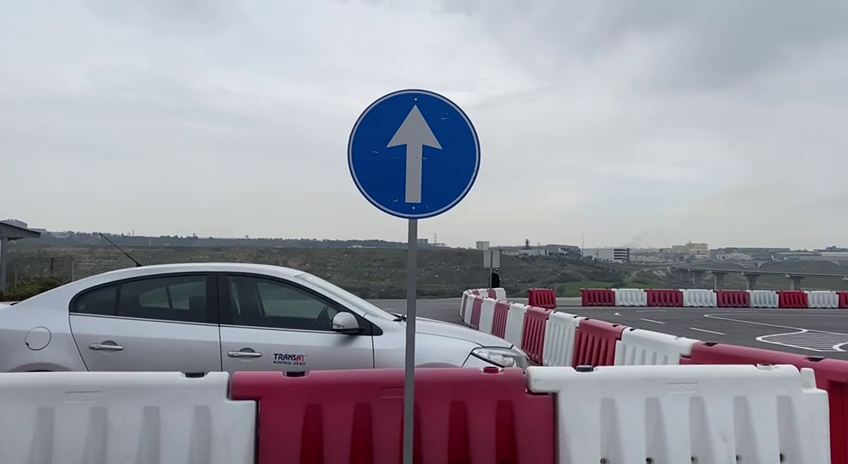forward: (345, 84, 485, 221)
